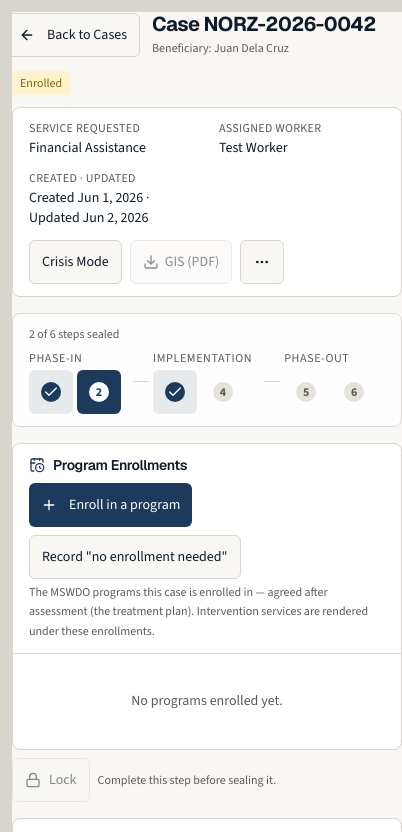
Test: CaseViewPage — a sealed step › leaves the other steps editable — a seal is per step
Step 1. Click the button named "Assess & Interview" → click(51, 392), box x1=29 y1=370 x2=73 y2=414
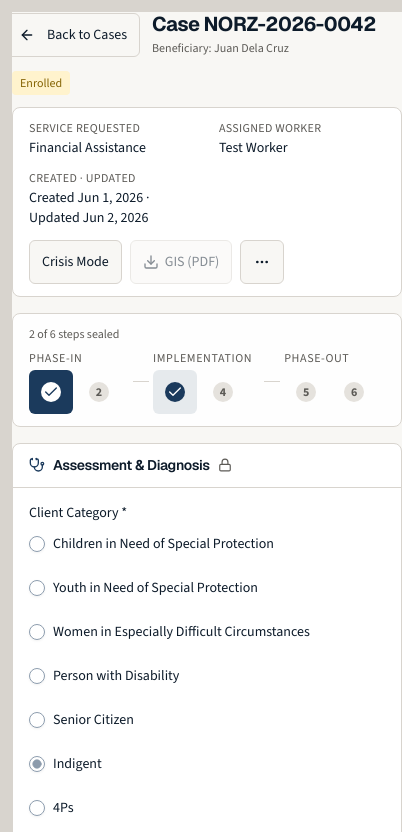
Step 2. Click the button named "Intervention & Requirements" → click(175, 392), box x1=153 y1=370 x2=197 y2=414
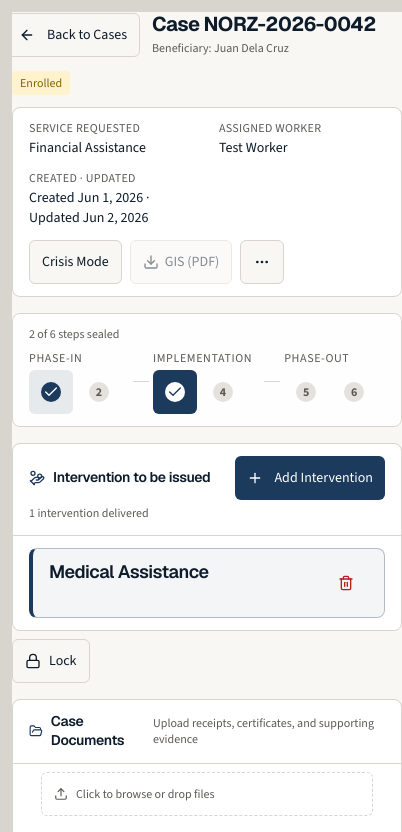
Now the button "Add Intervention" is shown, box x1=234 y1=456 x2=385 y2=500
